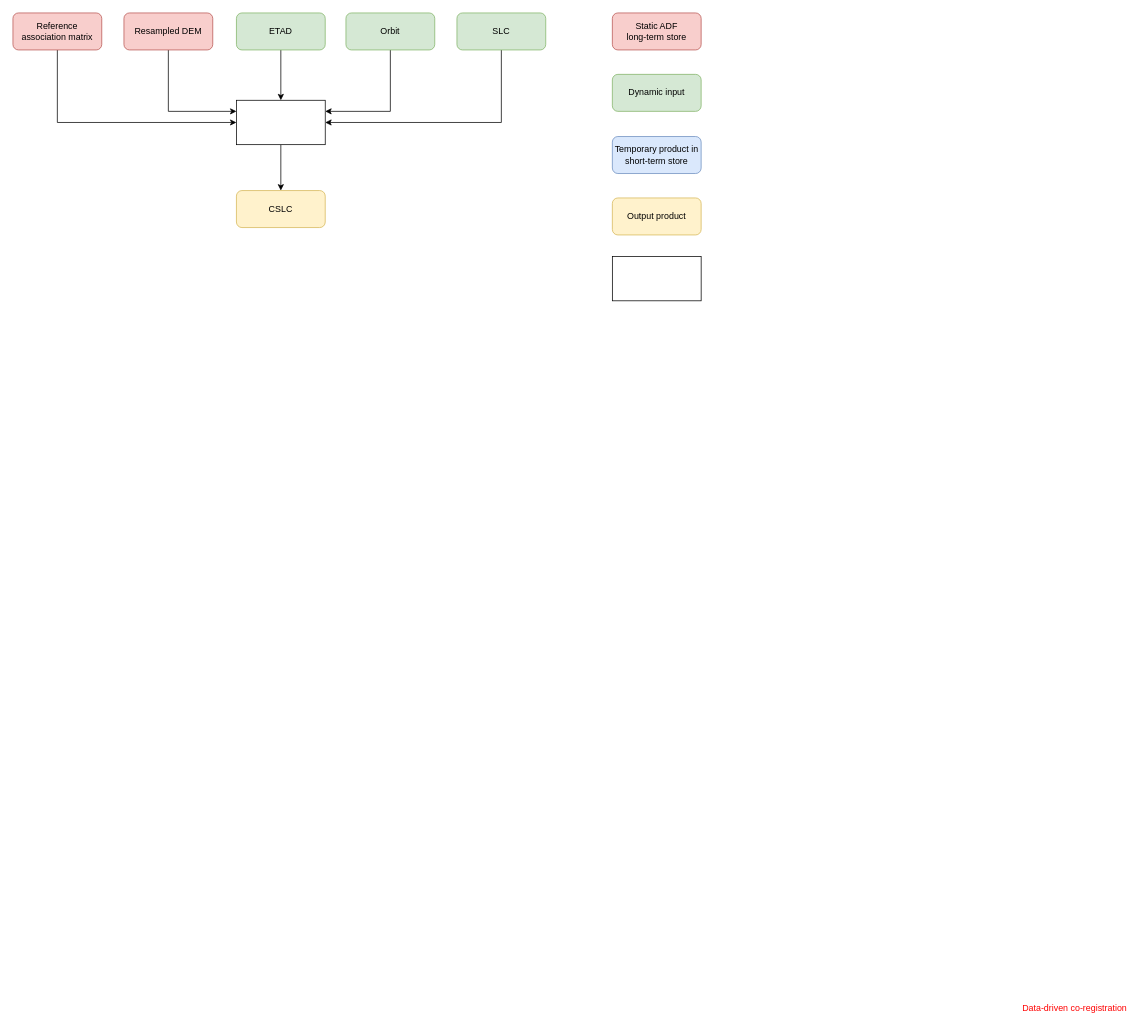
The diagram is 1147 pixels wide and 1032 high, and some of its shapes have lost their labels. The shapes that lost their labels are listed below. From the top down, each one's centre as x and y in pixels, then its label:
At point 280,122: "Model-based Co-registration".
At point 656,278: "Processing block".
